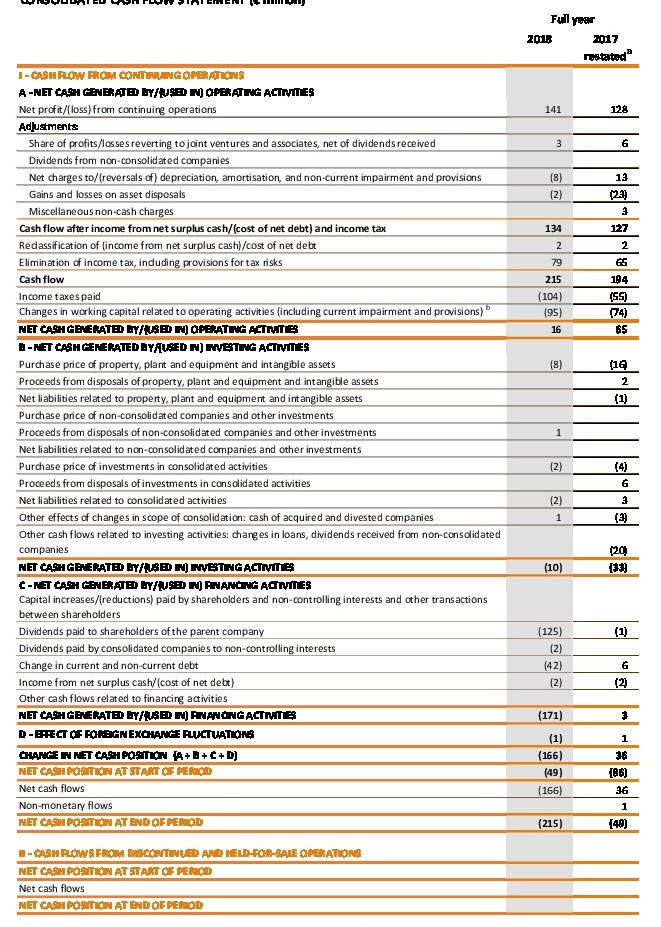table: (0, 0, 661, 927)
